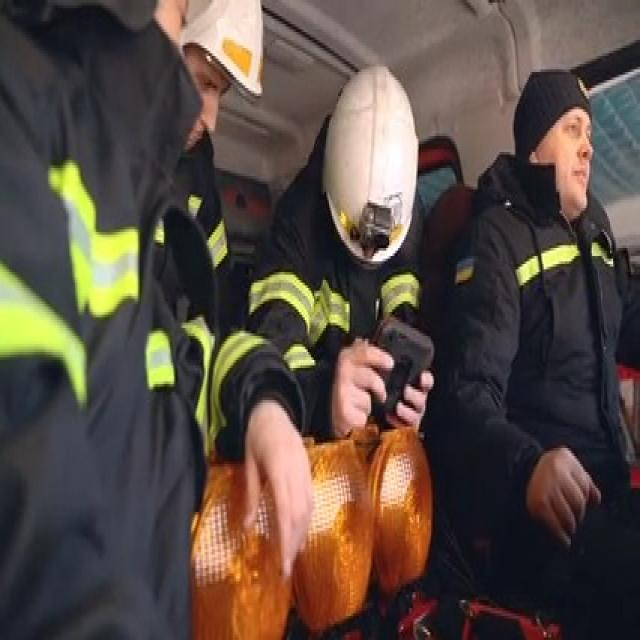Helmet_Wearer: (317, 64, 431, 265), (162, 0, 264, 141)
Jacket_Wearer: (460, 180, 640, 526), (259, 170, 429, 445)
Person: (448, 60, 640, 622), (248, 67, 460, 510), (162, 0, 260, 435)
